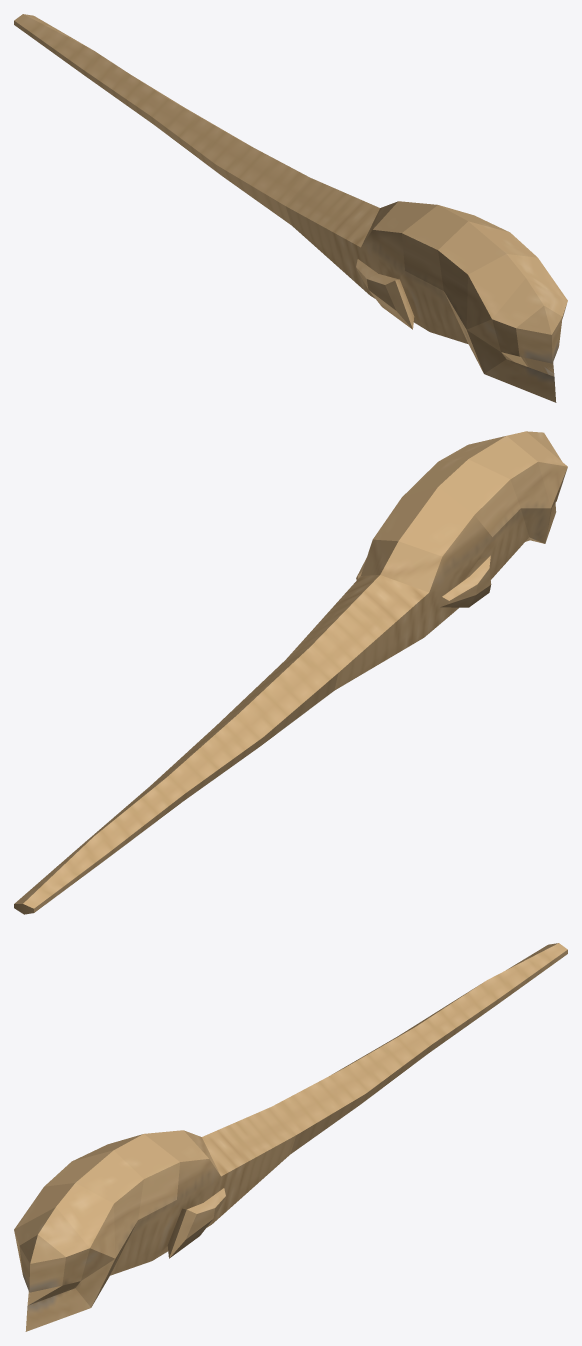
File: SM_Chestburster.fbx
The picture shows the model from 3 angles, top to bottom: view 1: azimuth 30°, elevation 25°; view 2: azimuth 150°, elevation 25°; view 3: azimuth 330°, elevation 25°; orthographic projection.
Parts seen in each view (by area): view 1: Chestburster; view 2: Chestburster; view 3: Chestburster.
Part boxes in pixels (x1=…): Chestburster: x1=14, y1=14, x2=567, y2=402; Chestburster: x1=14, y1=431, x2=567, y2=914; Chestburster: x1=14, y1=943, x2=567, y2=1331.
Size of the model in its own units: 3.21 by 3.65 by 26.79.
1 material, 1 textured.
